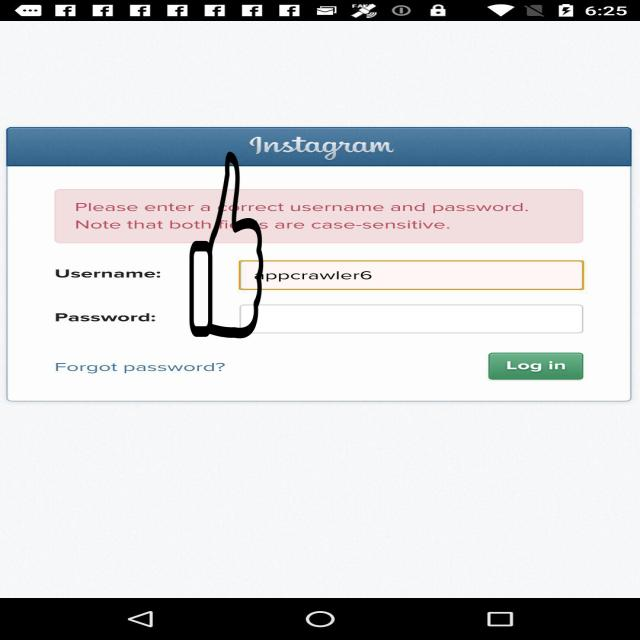privacy zuckering: (188, 152, 264, 338)
